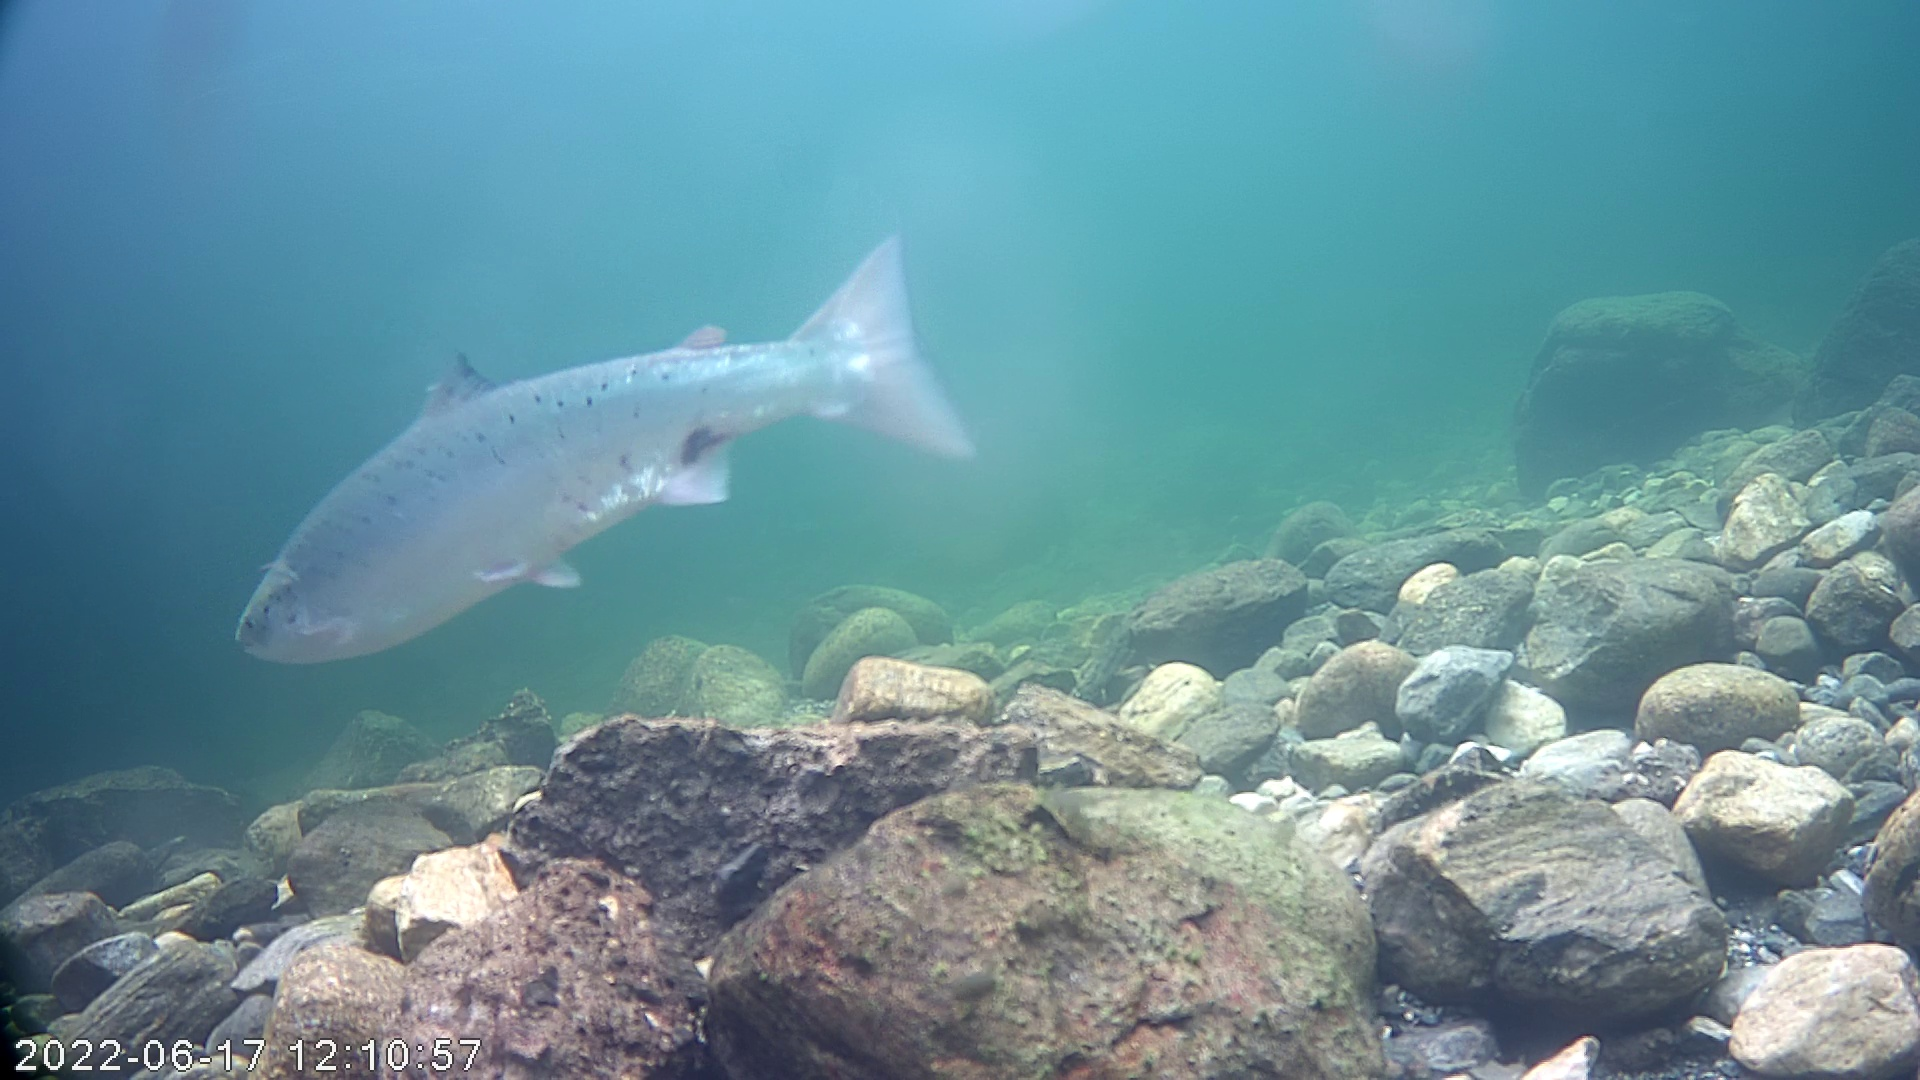salmon: (223, 229, 978, 670)
